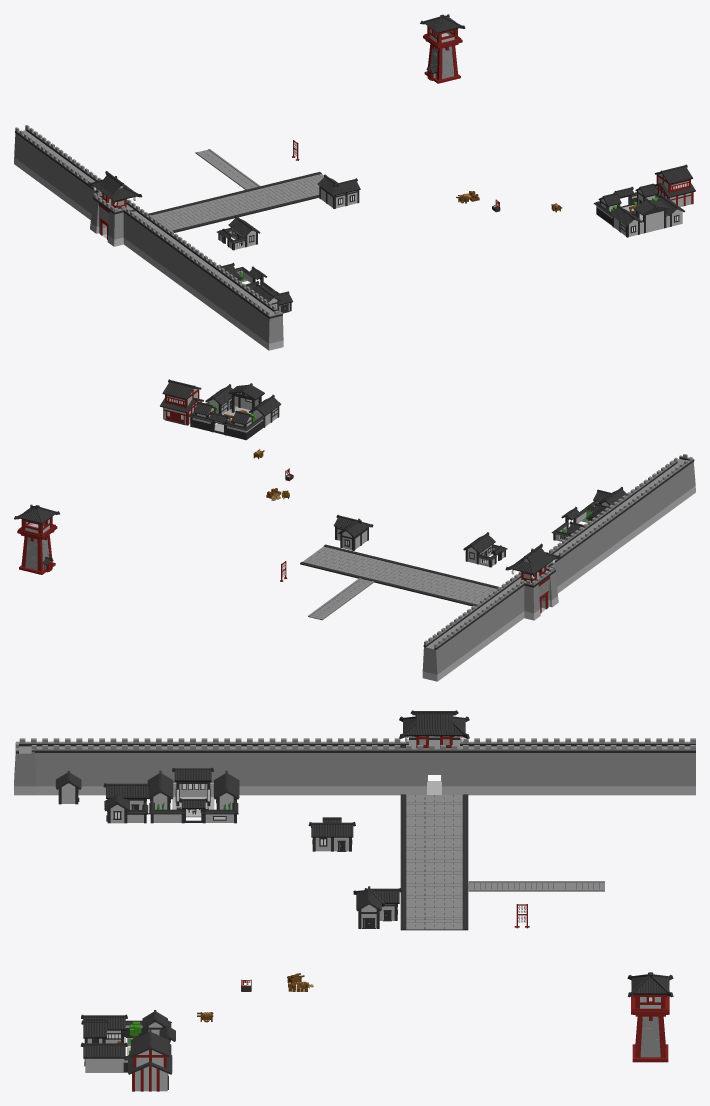
Rendered from good archis.fbx.
3 views of the same model, one above another, from view 1: azimuth 30°, elevation 25°; view 2: azimuth 150°, elevation 25°; view 3: azimuth 270°, elevation 25° (orthographic). The views are drawn at different scales.
Parts seen in each view (by area): view 1: 立方体.2263, wide_road, 立方体.2252, 立方体.2251, 立方体.2357, thin_road; view 2: 立方体.2263, 立方体.2252, wide_road, 立方体.2251, thin_road; view 3: 立方体.2263, 立方体.2252, wide_road, 立方体.2251, thin_road, 立方体.2357, 立方体.2657, 立方体.2302, 立方体.4040, 立方体.1095, 立方体.3506, 立方体.1091.
Boxes of the visible parts, left/top/right/bottom form: 立方体.2263: left=124, top=205, right=271, bottom=343; wide_road: left=148, top=172, right=323, bottom=232; 立方体.2252: left=14, top=125, right=101, bottom=219; 立方体.2251: left=90, top=197, right=133, bottom=246; 立方体.2357: left=260, top=305, right=283, bottom=350; thin_road: left=195, top=149, right=260, bottom=189; 立方体.2263: left=546, top=460, right=687, bottom=593; 立方体.2252: left=422, top=580, right=523, bottom=681; wide_road: left=300, top=544, right=498, bottom=606; 立方体.2251: left=514, top=570, right=558, bottom=620; thin_road: left=308, top=578, right=373, bottom=620; 立方体.2263: left=36, top=738, right=400, bottom=795; 立方体.2252: left=468, top=738, right=695, bottom=795; wide_road: left=400, top=794, right=468, bottom=930; 立方体.2251: left=403, top=740, right=465, bottom=794; thin_road: left=468, top=881, right=604, bottom=891; 立方体.2357: left=14, top=738, right=36, bottom=795; 立方体.2657: left=640, top=1016, right=660, bottom=1057; 立方体.2302: left=416, top=714, right=452, bottom=731; 立方体.4040: left=135, top=1066, right=167, bottom=1091; 立方体.1095: left=83, top=1045, right=125, bottom=1058; 立方体.3506: left=311, top=824, right=353, bottom=837; 立方体.1091: left=85, top=1058, right=123, bottom=1072.
Size of what is drawn, in the model's own units: 3282 by 403 by 3000.
